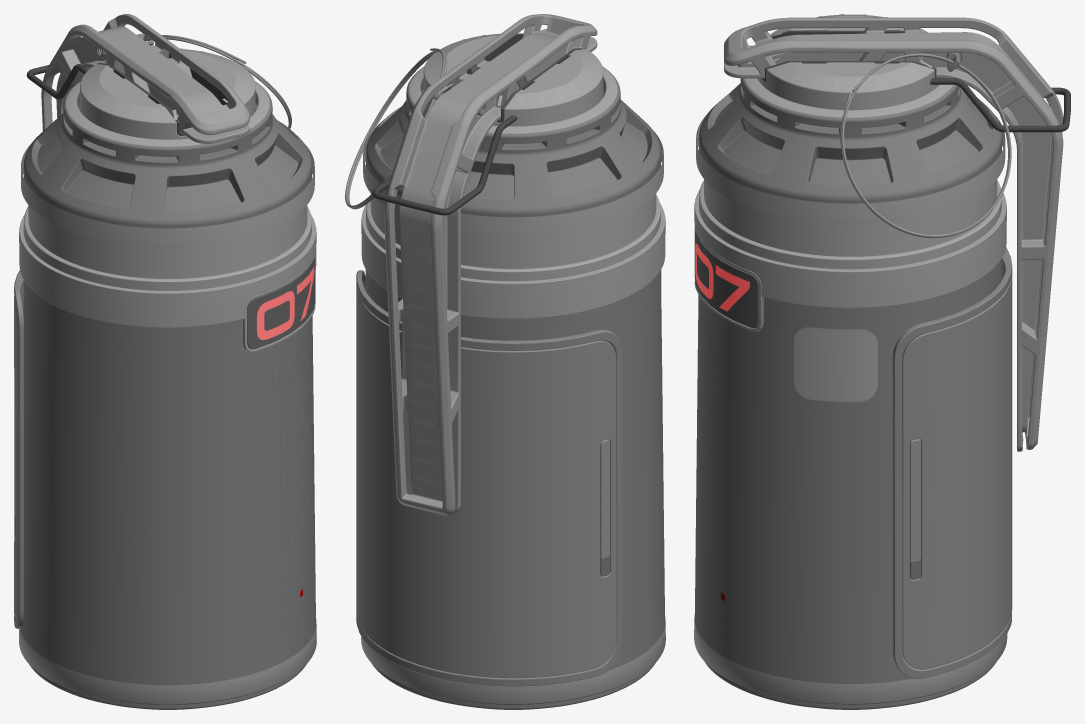
3 renders of one model, left to right at view 1: azimuth 30°, elevation 25°; view 2: azimuth 150°, elevation 25°; view 3: azimuth 270°, elevation 25°, orthographic. The views are drawn at different scales.
Visible parts, largest first — view 1: Grenade.005_13, Grenade.006_3, Grenade.001_5, Grenade.012_17, Decals.014_11, Grenade.015_29, Grenade.002_7, Decals.006_2, Decals.003_9, Decals.005_14, Grenade.010_22, Grenade.007_19 (+6 smaller); view 2: Grenade.013_24, Grenade.001_5, Grenade.005_13, Grenade.006_3, Grenade.012_17, Grenade.010_22, Grenade.015_29, Grenade.002_7, Decals.003_9, Decals.006_2, Decals.005_14, Decals.004_1 (+5 smaller); view 3: Grenade.005_13, Grenade.013_24, Grenade.001_5, Grenade.006_3, Grenade.012_17, Decals.014_11, Grenade.015_29, Grenade.002_7, Decals.006_2, Grenade.010_22, Decals.003_9, Decals.008_10 (+8 smaller).
Boxes of the visible parts, x1=… form: Grenade.005_13: x1=20, y1=280, x2=315, y2=709; Grenade.006_3: x1=23, y1=81, x2=311, y2=228; Grenade.001_5: x1=41, y1=14, x2=249, y2=143; Grenade.012_17: x1=19, y1=206, x2=316, y2=327; Decals.014_11: x1=256, y1=325, x2=313, y2=655; Grenade.015_29: x1=28, y1=205, x2=307, y2=278; Grenade.002_7: x1=80, y1=49, x2=255, y2=139; Decals.006_2: x1=21, y1=144, x2=314, y2=247; Decals.003_9: x1=19, y1=619, x2=316, y2=704; Decals.005_14: x1=19, y1=228, x2=316, y2=305; Grenade.010_22: x1=14, y1=270, x2=23, y2=628; Grenade.007_19: x1=247, y1=258, x2=314, y2=349; Grenade.013_24: x1=356, y1=282, x2=616, y2=678; Grenade.001_5: x1=384, y1=14, x2=597, y2=515; Grenade.005_13: x1=365, y1=270, x2=664, y2=709; Grenade.006_3: x1=366, y1=66, x2=660, y2=217; Grenade.012_17: x1=361, y1=195, x2=665, y2=318; Grenade.010_22: x1=356, y1=270, x2=622, y2=686; Grenade.015_29: x1=370, y1=193, x2=656, y2=268; Grenade.002_7: x1=423, y1=33, x2=603, y2=126; Decals.003_9: x1=361, y1=616, x2=665, y2=704; Decals.006_2: x1=363, y1=130, x2=663, y2=236; Decals.005_14: x1=361, y1=216, x2=665, y2=296; Decals.004_1: x1=409, y1=67, x2=617, y2=133; Grenade.005_13: x1=694, y1=258, x2=1002, y2=709; Grenade.013_24: x1=902, y1=259, x2=1012, y2=669; Grenade.001_5: x1=724, y1=17, x2=1063, y2=451; Grenade.006_3: x1=699, y1=78, x2=1001, y2=203; Grenade.012_17: x1=694, y1=180, x2=1006, y2=308; Decals.014_11: x1=695, y1=300, x2=750, y2=646; Grenade.015_29: x1=704, y1=179, x2=997, y2=256; Grenade.002_7: x1=758, y1=14, x2=938, y2=109; Decals.006_2: x1=696, y1=114, x2=1005, y2=223; Grenade.010_22: x1=892, y1=247, x2=1012, y2=679; Decals.003_9: x1=694, y1=613, x2=1007, y2=703; Decals.008_10: x1=794, y1=327, x2=877, y2=401.
Size of what is drawn, in the model's own units: 0.0935 by 0.2032 by 0.1108.
16 materials, 2 textured.
